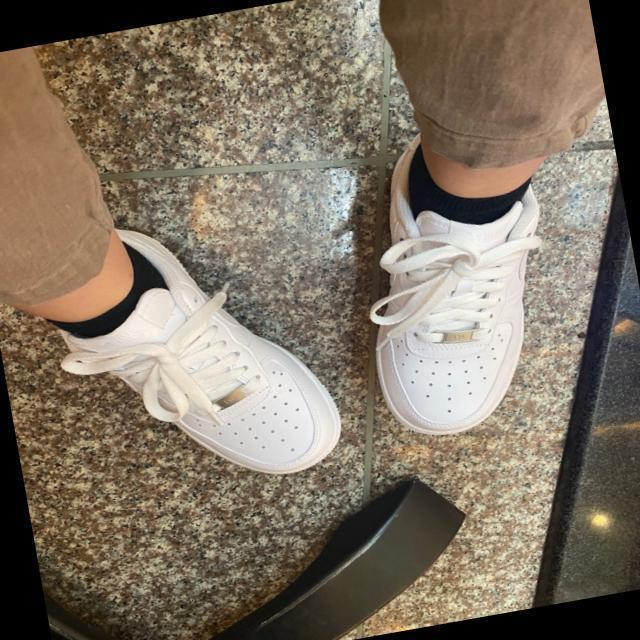nike original air force: (322, 99, 584, 444), (36, 238, 354, 512)
